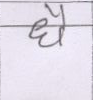ai_matra: (45, 4, 71, 24)
